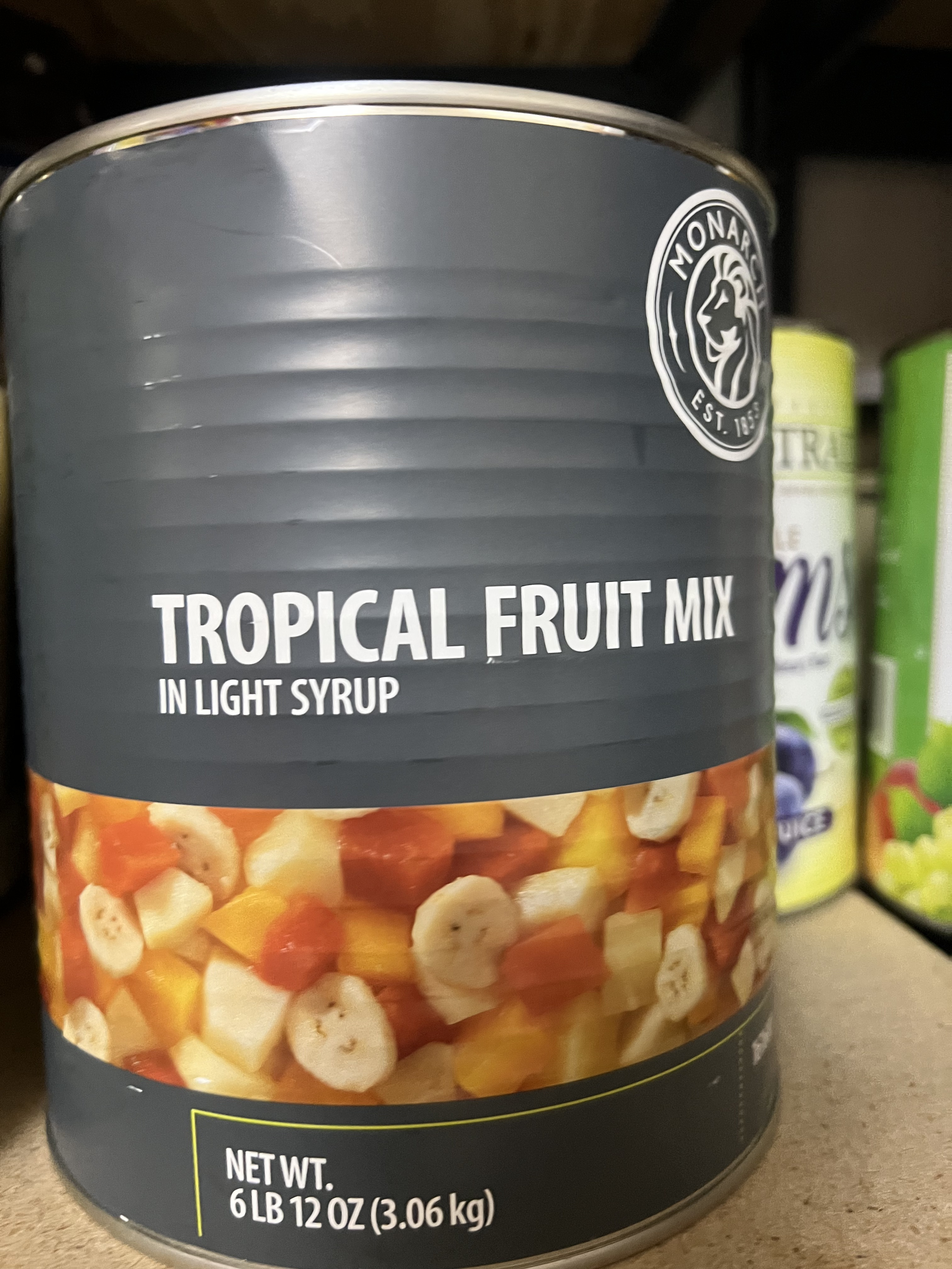packaged: (8, 68, 788, 1269)
